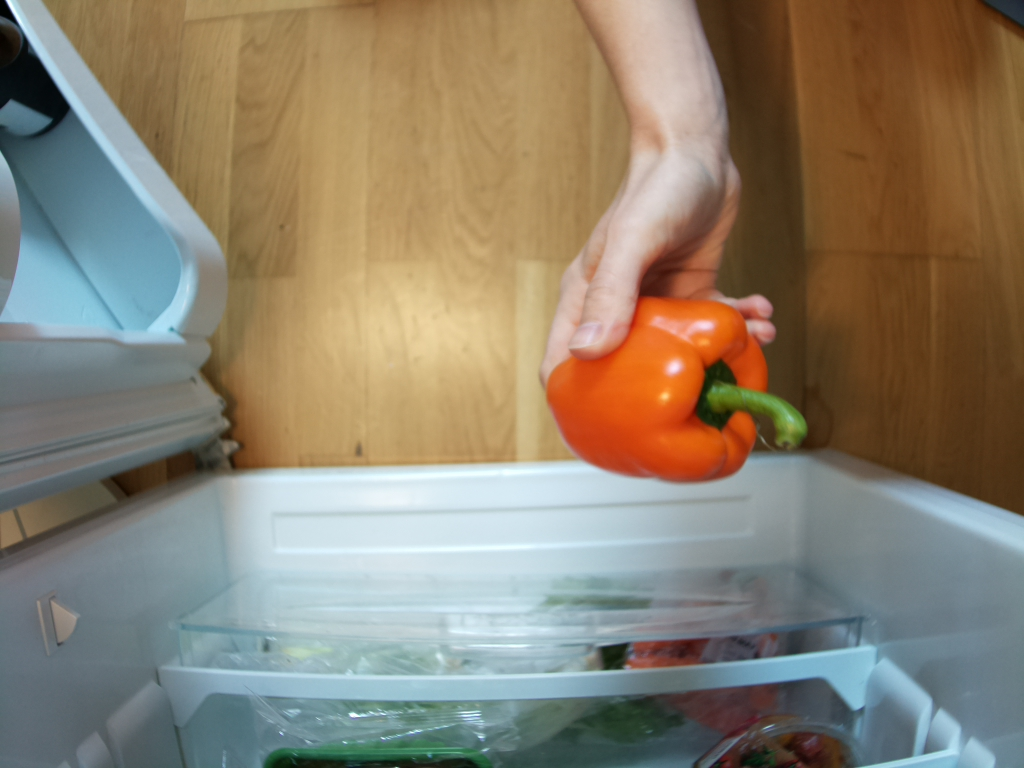pepper: (544, 294, 809, 482)
